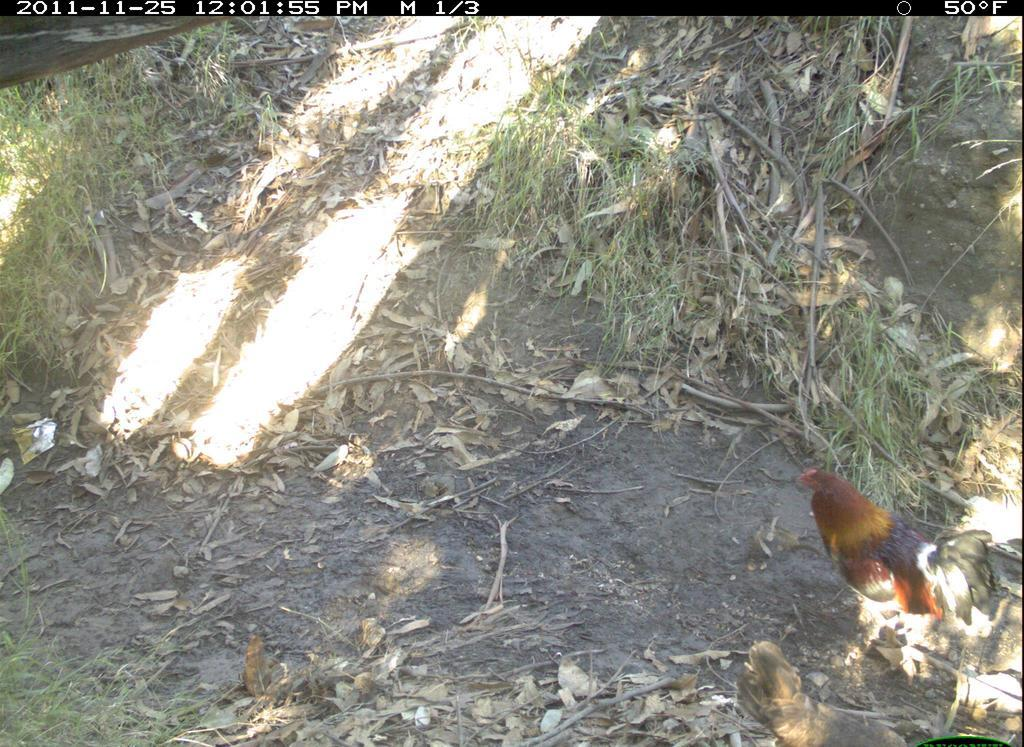bird: (786, 457, 1015, 634)
